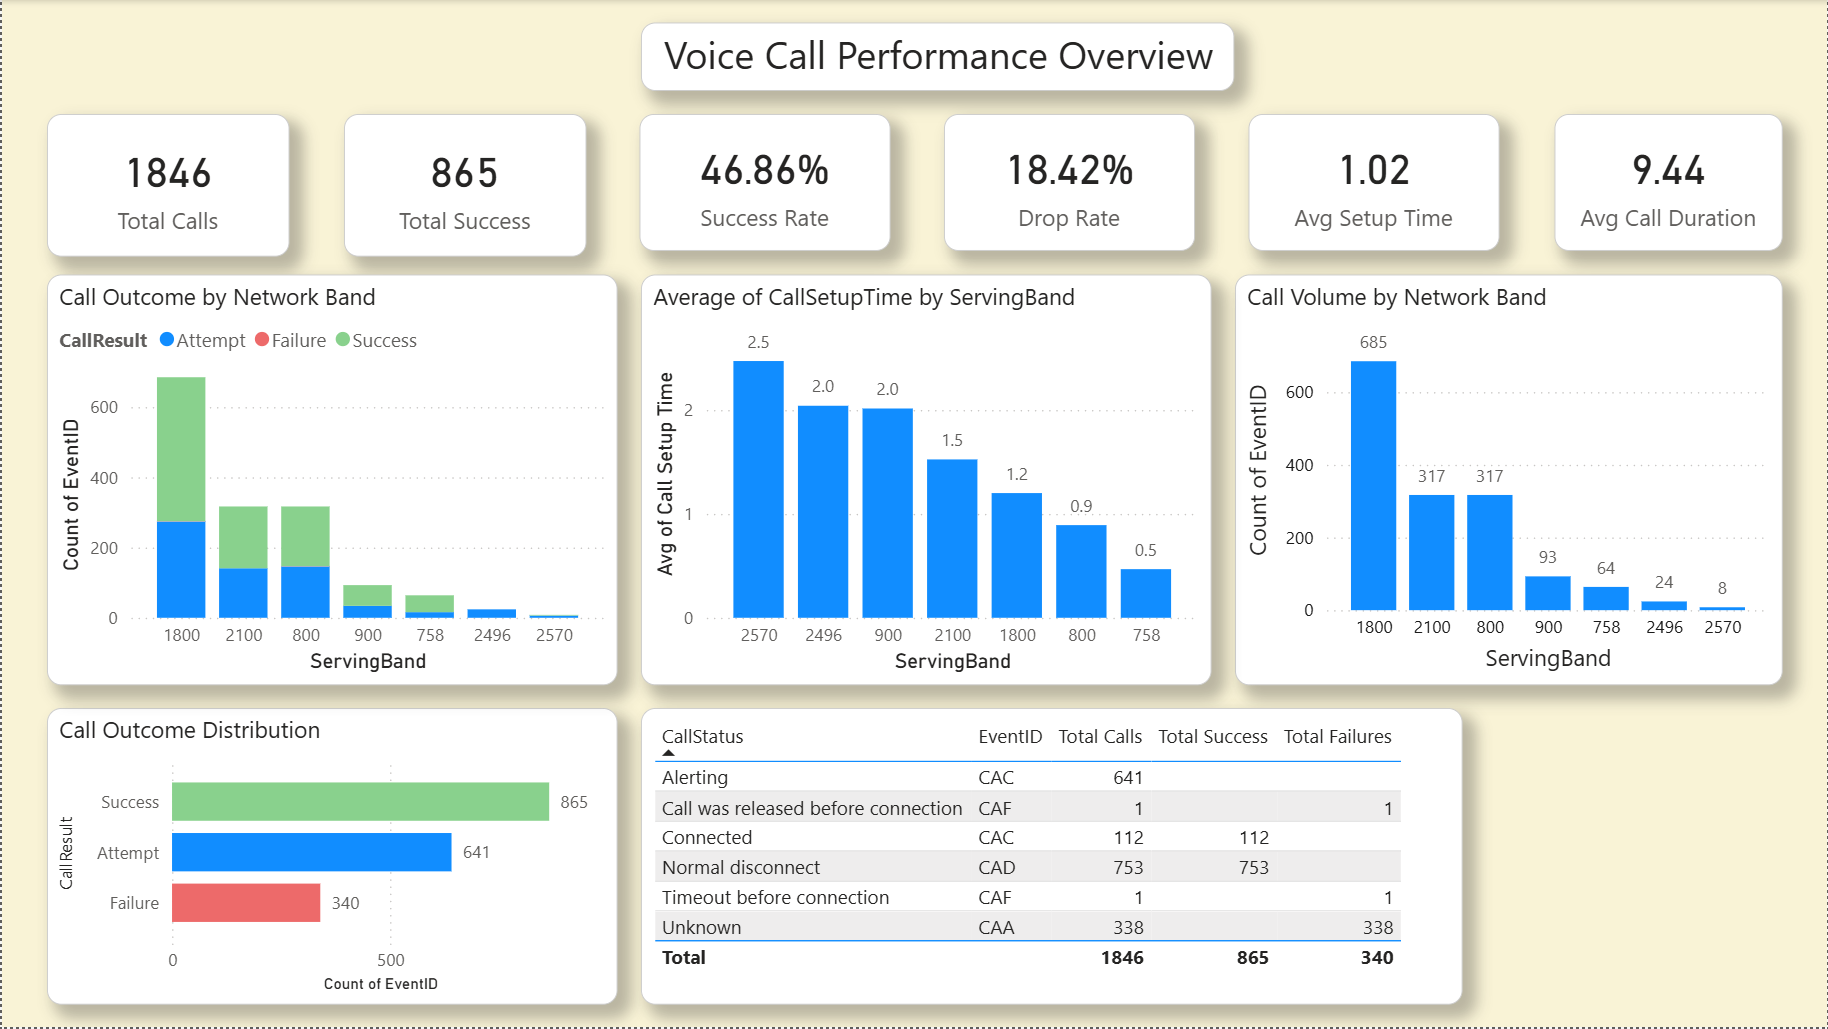

What the dashboard file says about the page in this screenshot:
{"tool":"powerbi","page":{"name":"Page 1","canvas":[1280,720],"ordinal":0},"visuals":[{"type":"textbox","title":"Voice Call Performance Overview","box":[448,16,416,48],"z":0},{"type":"card","fields":{"Values":["CallConnected.Total Calls"]},"box":[32,80,170,100],"z":1000},{"type":"card","fields":{"Values":["CallConnected.Total Connected"]},"box":[239.6,80,170,100],"z":2000},{"type":"card","fields":{"Values":["CallConnected.Success Rate"]},"box":[447.2,80,176,96],"z":3000},{"type":"card","fields":{"Values":["CallConnected.Drop Rate"]},"box":[660.8,80,176,96],"z":4000},{"type":"card","fields":{"Values":["CallConnected.Avg Call Duration"]},"box":[1088,80,160,96],"z":5000},{"type":"card","fields":{"Values":["CallConnected.Avg Setup Time"]},"box":[874.4,80,176,96],"z":6000},{"type":"clusteredBarChart","title":"Call Outcome Distribution","fields":{"Category":["Voice_Call_Data.Call_Result"],"Y":["CountNonNull(Voice_Call_Data.EventID)"]},"box":[32,496,400,208],"z":7000},{"type":"clusteredColumnChart","title":"Call Volume by Network Band","fields":{"Category":["Voice_Call_Data.ServingBand"],"Y":["CountNonNull(Voice_Call_Data.EventID)"]},"box":[864,192,384,288],"z":8000},{"type":"columnChart","title":"Call Outcome by Network Band","fields":{"Category":["Voice_Call_Data.ServingBand"],"Y":["CountNonNull(Voice_Call_Data.EventID)"],"Series":["Voice_Call_Data.CallResult"]},"box":[32,192,400,288],"z":9000},{"type":"columnChart","fields":{"Category":["Voice_Call_Data.ServingBand"],"Y":["Avg(Voice_Call_Data.CallSetupTime)"]},"box":[448,192,400,288],"z":10000},{"type":"tableEx","fields":{"Values":["Voice_Call_Data.CallStatus","Voice_Call_Data.EventID","CallConnected.Total Calls","CallConnected.Total Success","CallConnected.Total Failures"]},"box":[448,496,576,208],"z":11000}]}

Visuals, with their boxes in screenshot pixels (x1, y1, x2, y2), scaled from the page's 1280x720 canvas onto the 1828x1029 screenshot:
"Voice Call Performance Overview" textbox: (640, 23, 1234, 91)
card - CallConnected.Total Calls: (46, 114, 288, 257)
card - CallConnected.Total Connected: (342, 114, 585, 257)
card - CallConnected.Success Rate: (639, 114, 890, 252)
card - CallConnected.Drop Rate: (944, 114, 1195, 252)
card - CallConnected.Avg Call Duration: (1554, 114, 1782, 252)
card - CallConnected.Avg Setup Time: (1249, 114, 1500, 252)
"Call Outcome Distribution" clusteredBarChart: (46, 709, 617, 1006)
"Call Volume by Network Band" clusteredColumnChart: (1234, 274, 1782, 686)
"Call Outcome by Network Band" columnChart: (46, 274, 617, 686)
columnChart - Voice_Call_Data.ServingBand x Avg(Voice_Call_Data.CallSetupTime): (640, 274, 1211, 686)
tableEx - Voice_Call_Data.CallStatus x Voice_Call_Data.EventID: (640, 709, 1462, 1006)
